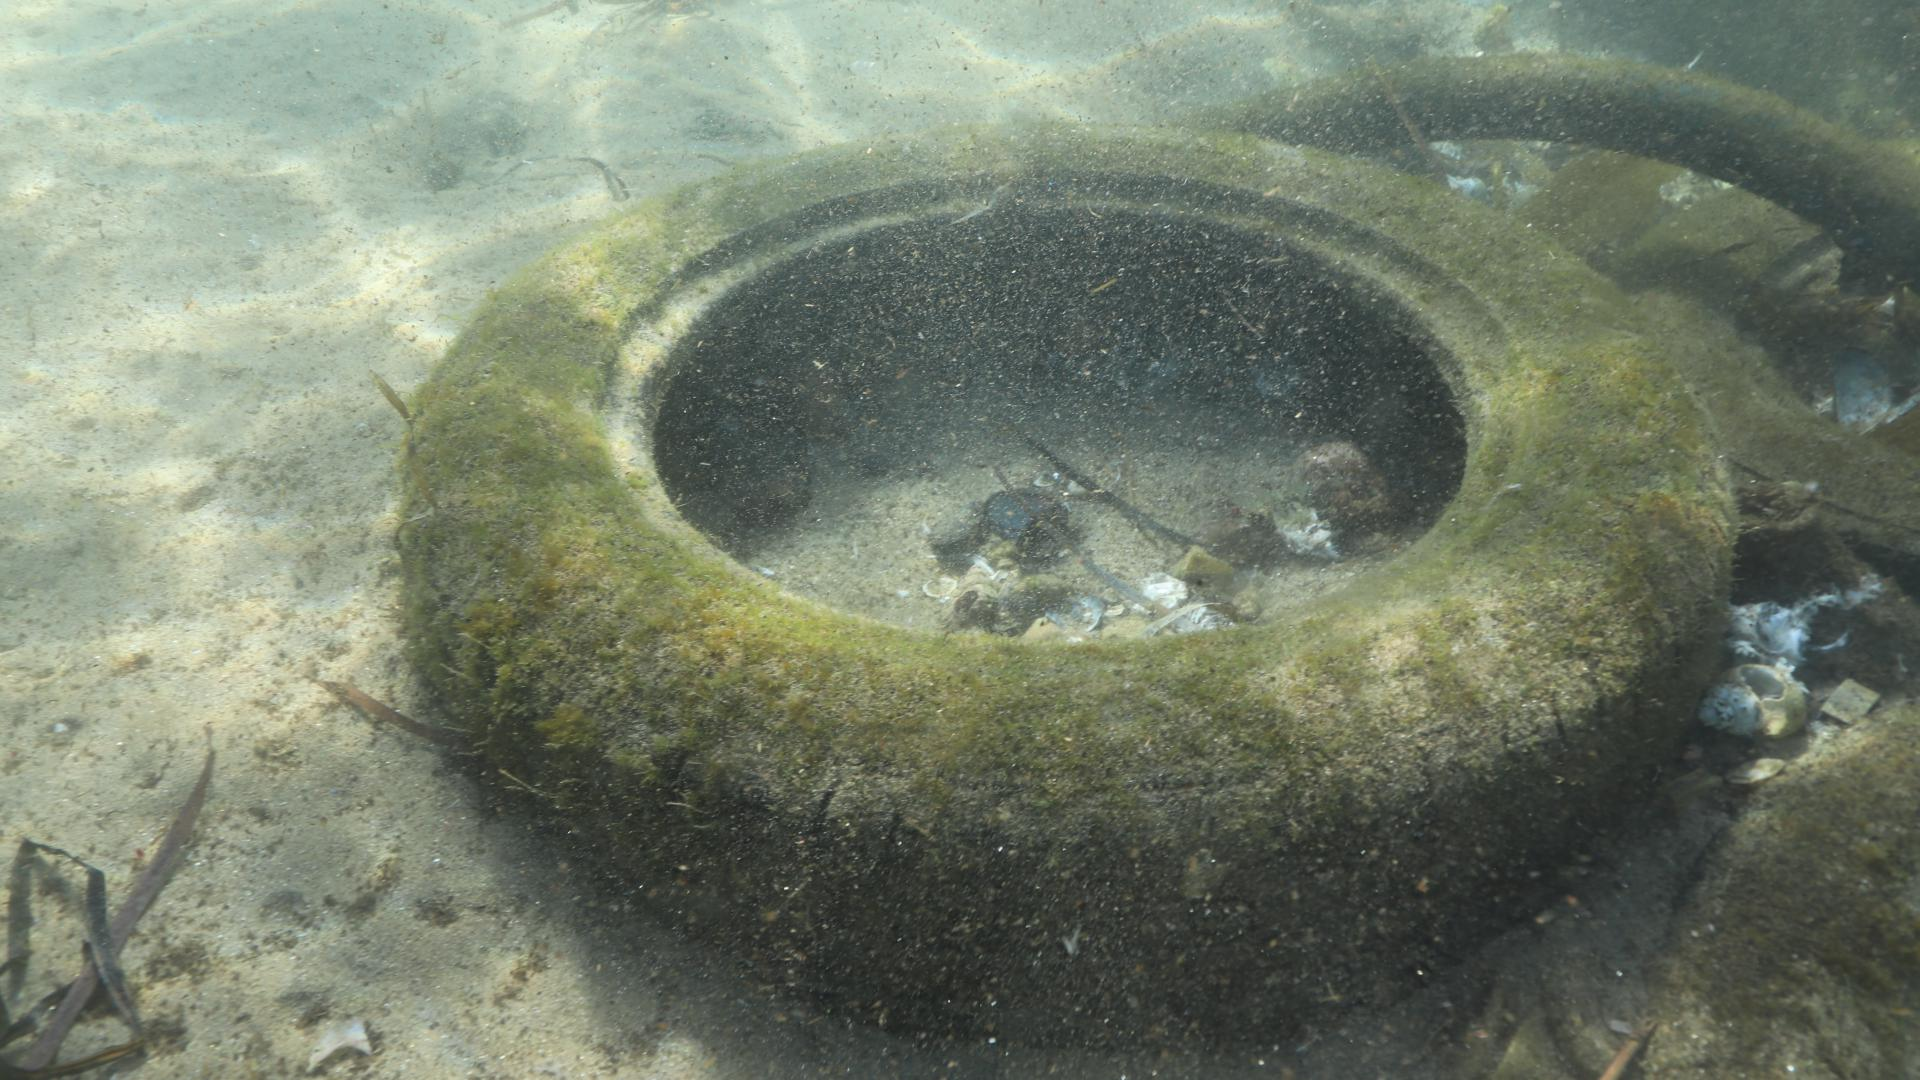tire: (404, 123, 1735, 1048)
